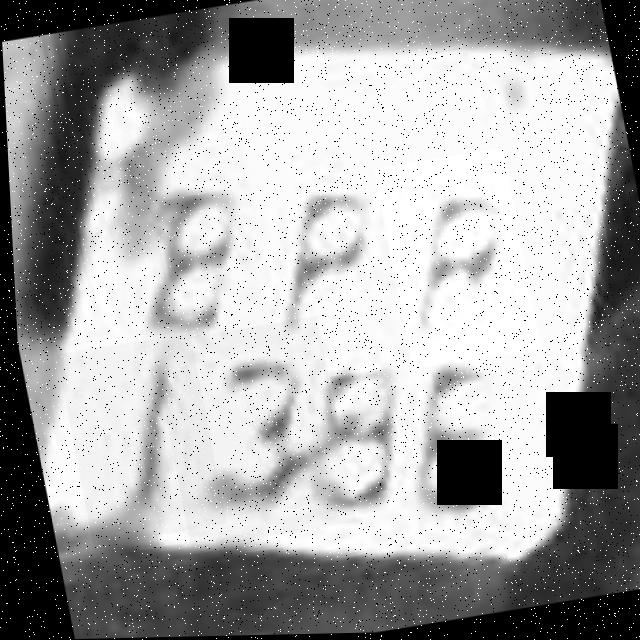1: (52, 333, 222, 546)
3: (147, 317, 351, 550)
8: (241, 322, 447, 540)
9: (266, 322, 447, 536)
B: (94, 141, 279, 367)
P: (371, 148, 539, 372)
